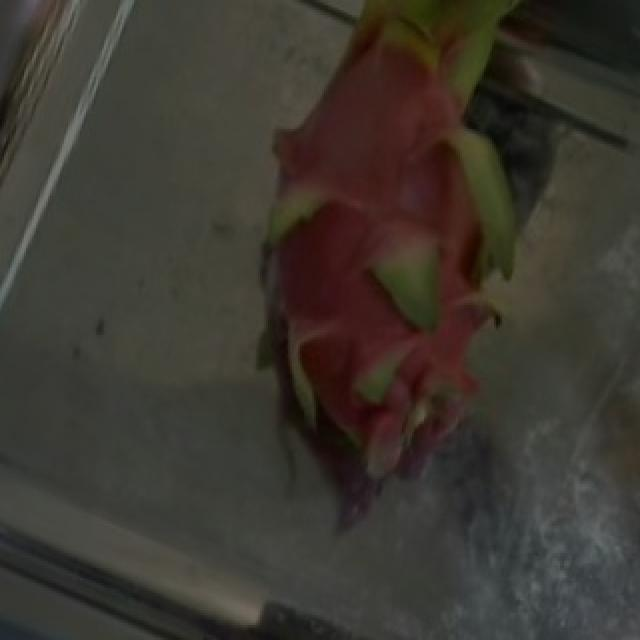fruit: (180, 0, 618, 397)
